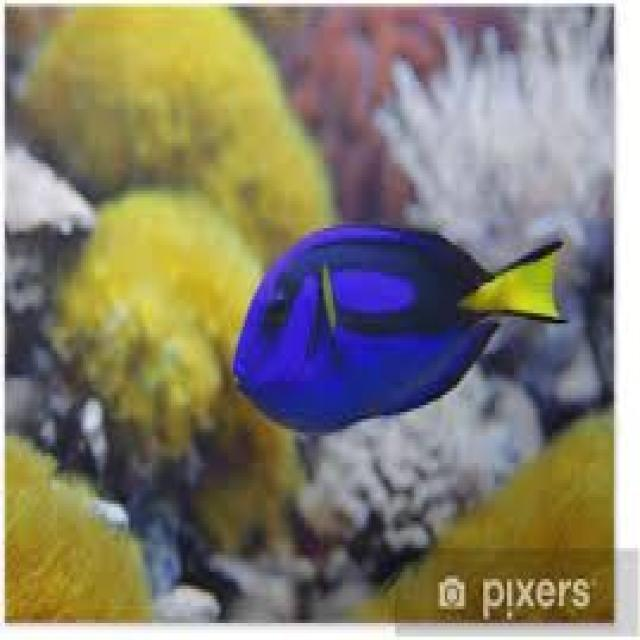TangFish: (228, 214, 564, 432)
